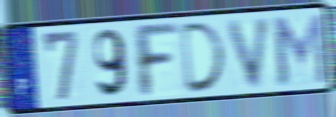7: (39, 30, 82, 104)
9: (92, 27, 128, 99)
D: (180, 19, 230, 96)
F: (130, 22, 182, 100)
M: (269, 11, 330, 88)
V: (225, 14, 275, 91)
